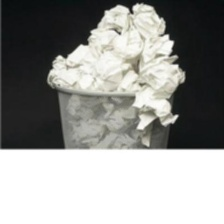tissue: (42, 0, 190, 149)
